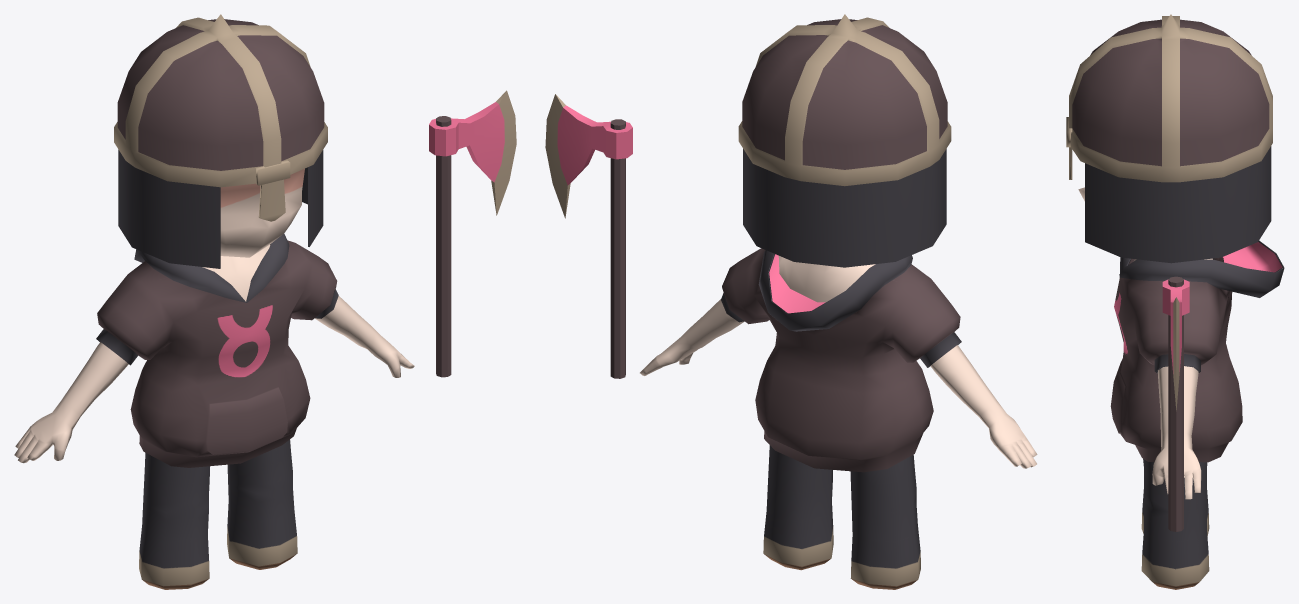
Rendered from Idiot01.fbx.
3 views of the same model, side by side, from view 1: azimuth 30°, elevation 25°; view 2: azimuth 150°, elevation 25°; view 3: azimuth 270°, elevation 25° (orthographic). The views are drawn at different scales.
Visible parts, largest first — view 1: Axe1; view 2: Axe1; view 3: Axe1.
Boxes of the visible parts, bbox=[...] form: Axe1: bbox=[14, 14, 516, 589]; Axe1: bbox=[545, 14, 1037, 589]; Axe1: bbox=[1066, 14, 1284, 589].
Bounding box in the file's own units: 15.58 × 16.69 × 6.08.
